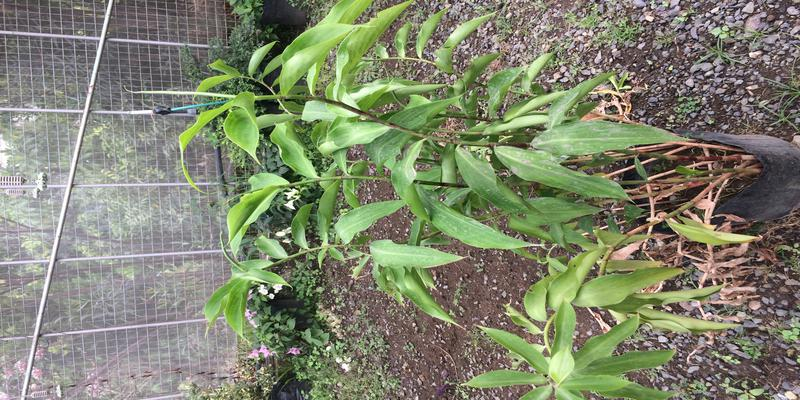Insulin: (202, 63, 721, 283)
